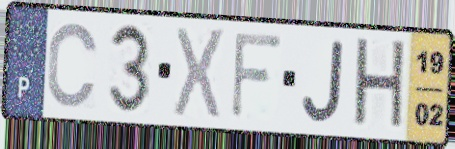3: (104, 20, 154, 118)
C: (44, 20, 101, 111)
F: (228, 30, 285, 122)
H: (351, 35, 408, 136)
J: (300, 37, 347, 126)
X: (170, 24, 228, 124)
